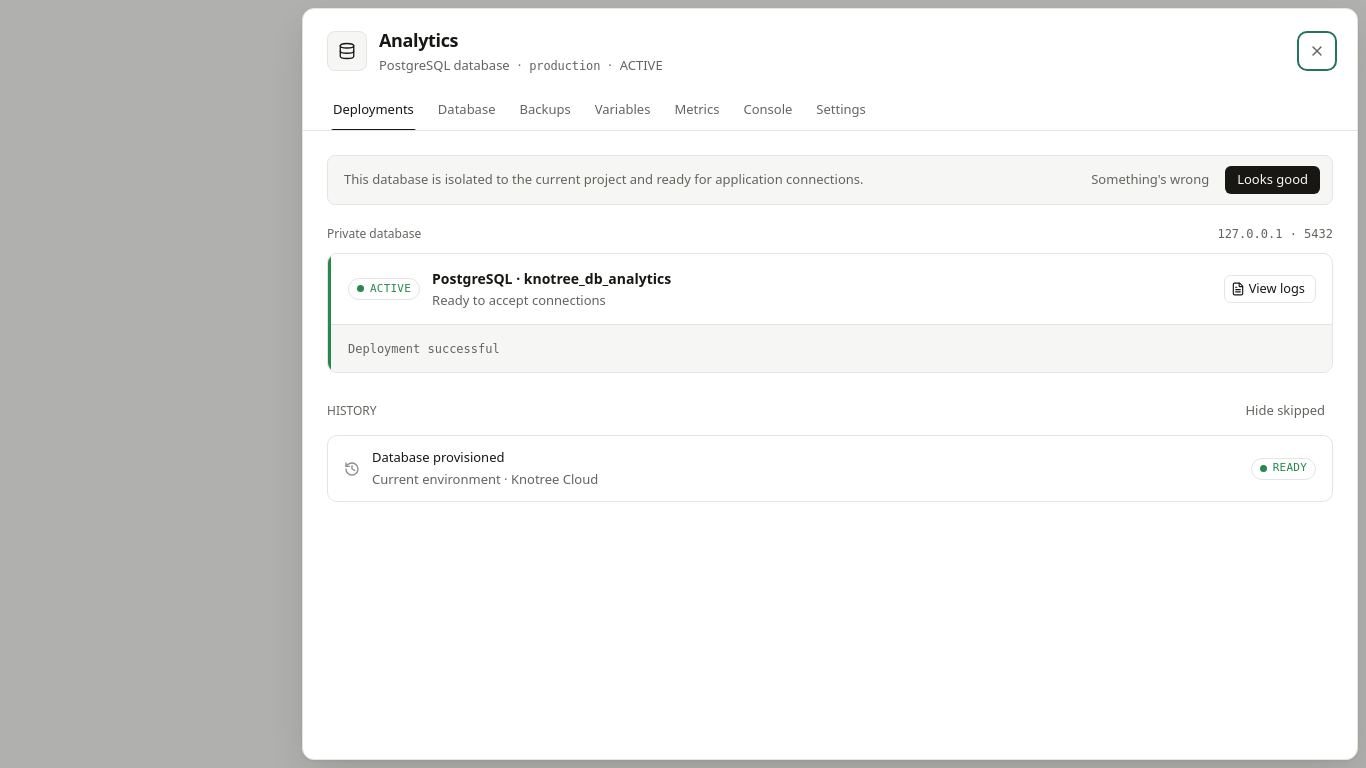
Test: ResourceWorkspace database pane › uses the first real table in the starter query
Click the tab "Database" at (467, 110), box [428,90,506,130]
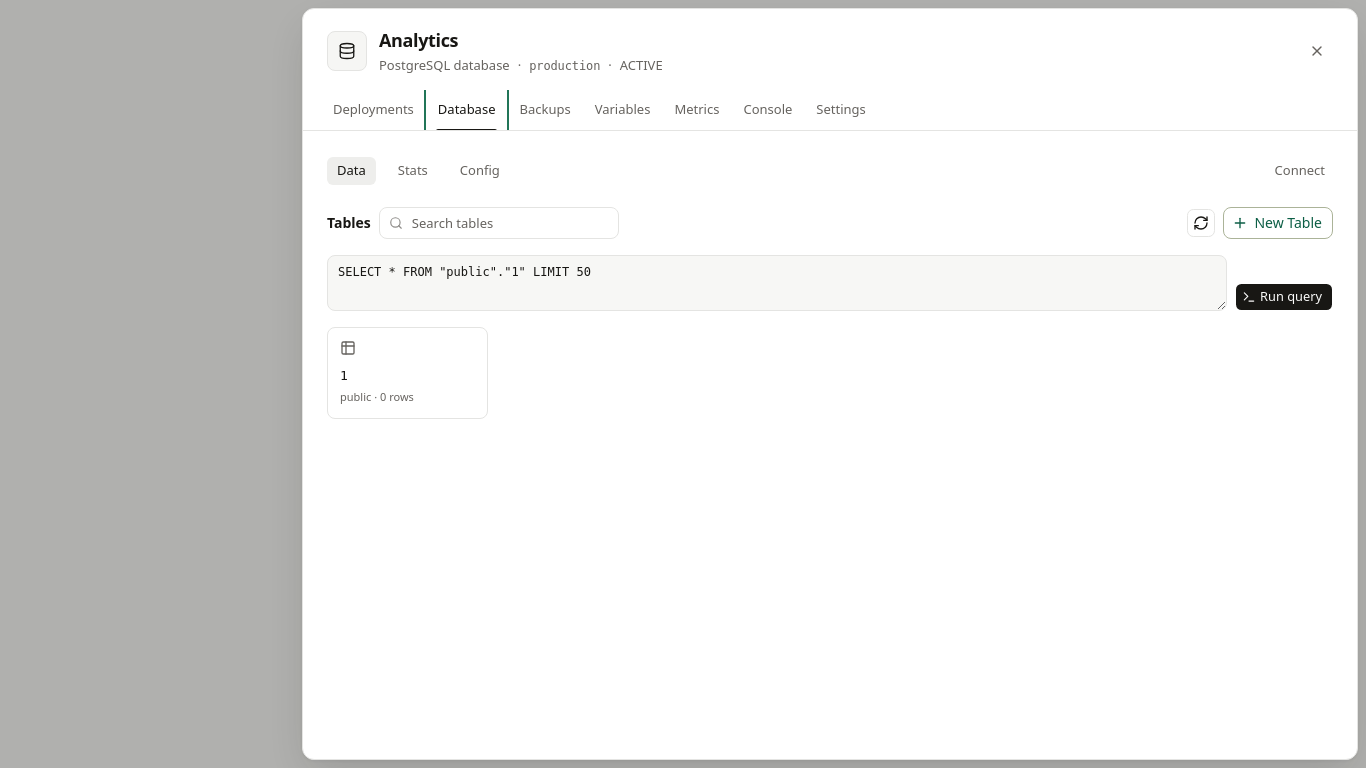
Now the button "1 public · 0 rows" is shown
Now the text box named "SQL query" holds "SELECT * FROM \"public\".\"1\" LIMIT 50", box [327,254,1227,310]
Click the button "1 public · 0 rows" at (408, 372), box [327,326,488,418]
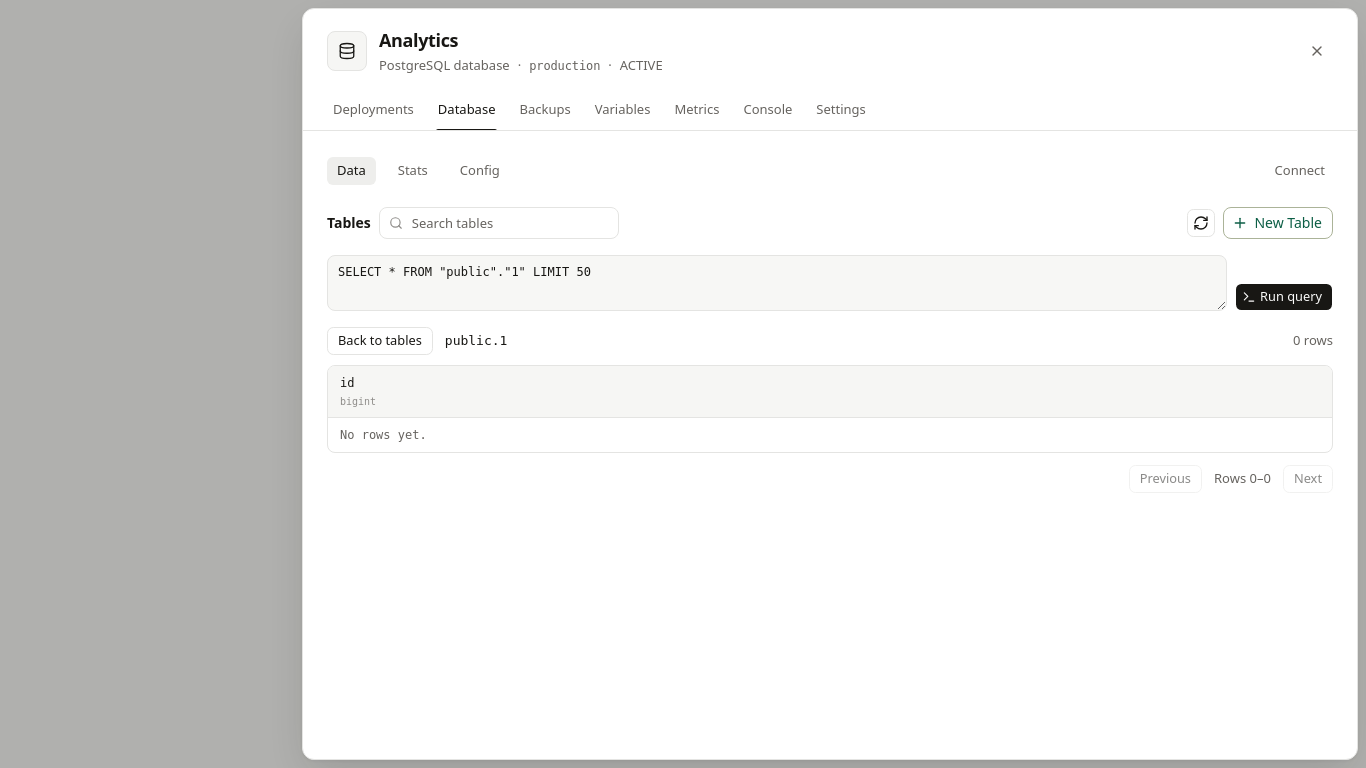
Now the text "public.1" is shown, box [445,331,507,350]
